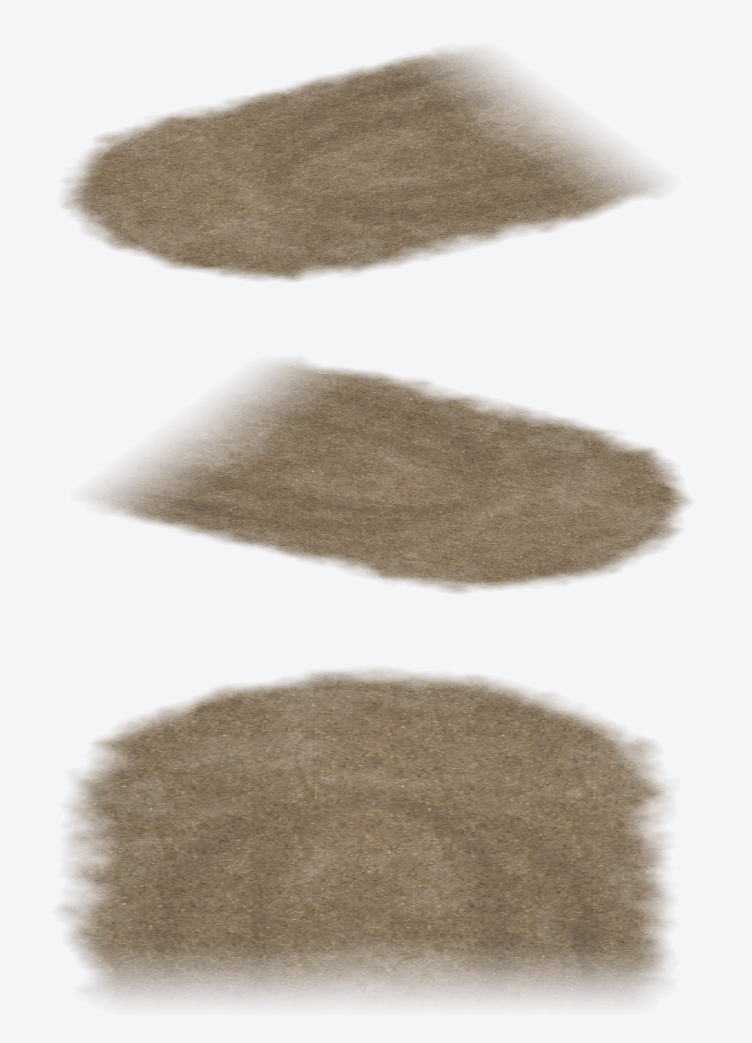
Rendered from road_end_main.glb.
3 views of the same model, one above another, from view 1: azimuth 30°, elevation 25°; view 2: azimuth 150°, elevation 25°; view 3: azimuth 270°, elevation 25° (orthographic). The views are drawn at different scales.
Parts seen in each view (by area): view 1: road_end_main; view 2: road_end_main; view 3: road_end_main.
Boxes of the visible parts, x1,y1,x2,y2 form: road_end_main: [63, 49, 661, 281]; road_end_main: [89, 360, 690, 593]; road_end_main: [59, 668, 671, 1002].
Size of the model in its own units: 16.5 by 0 by 13.
Materials: 1 (1 with a texture image).
